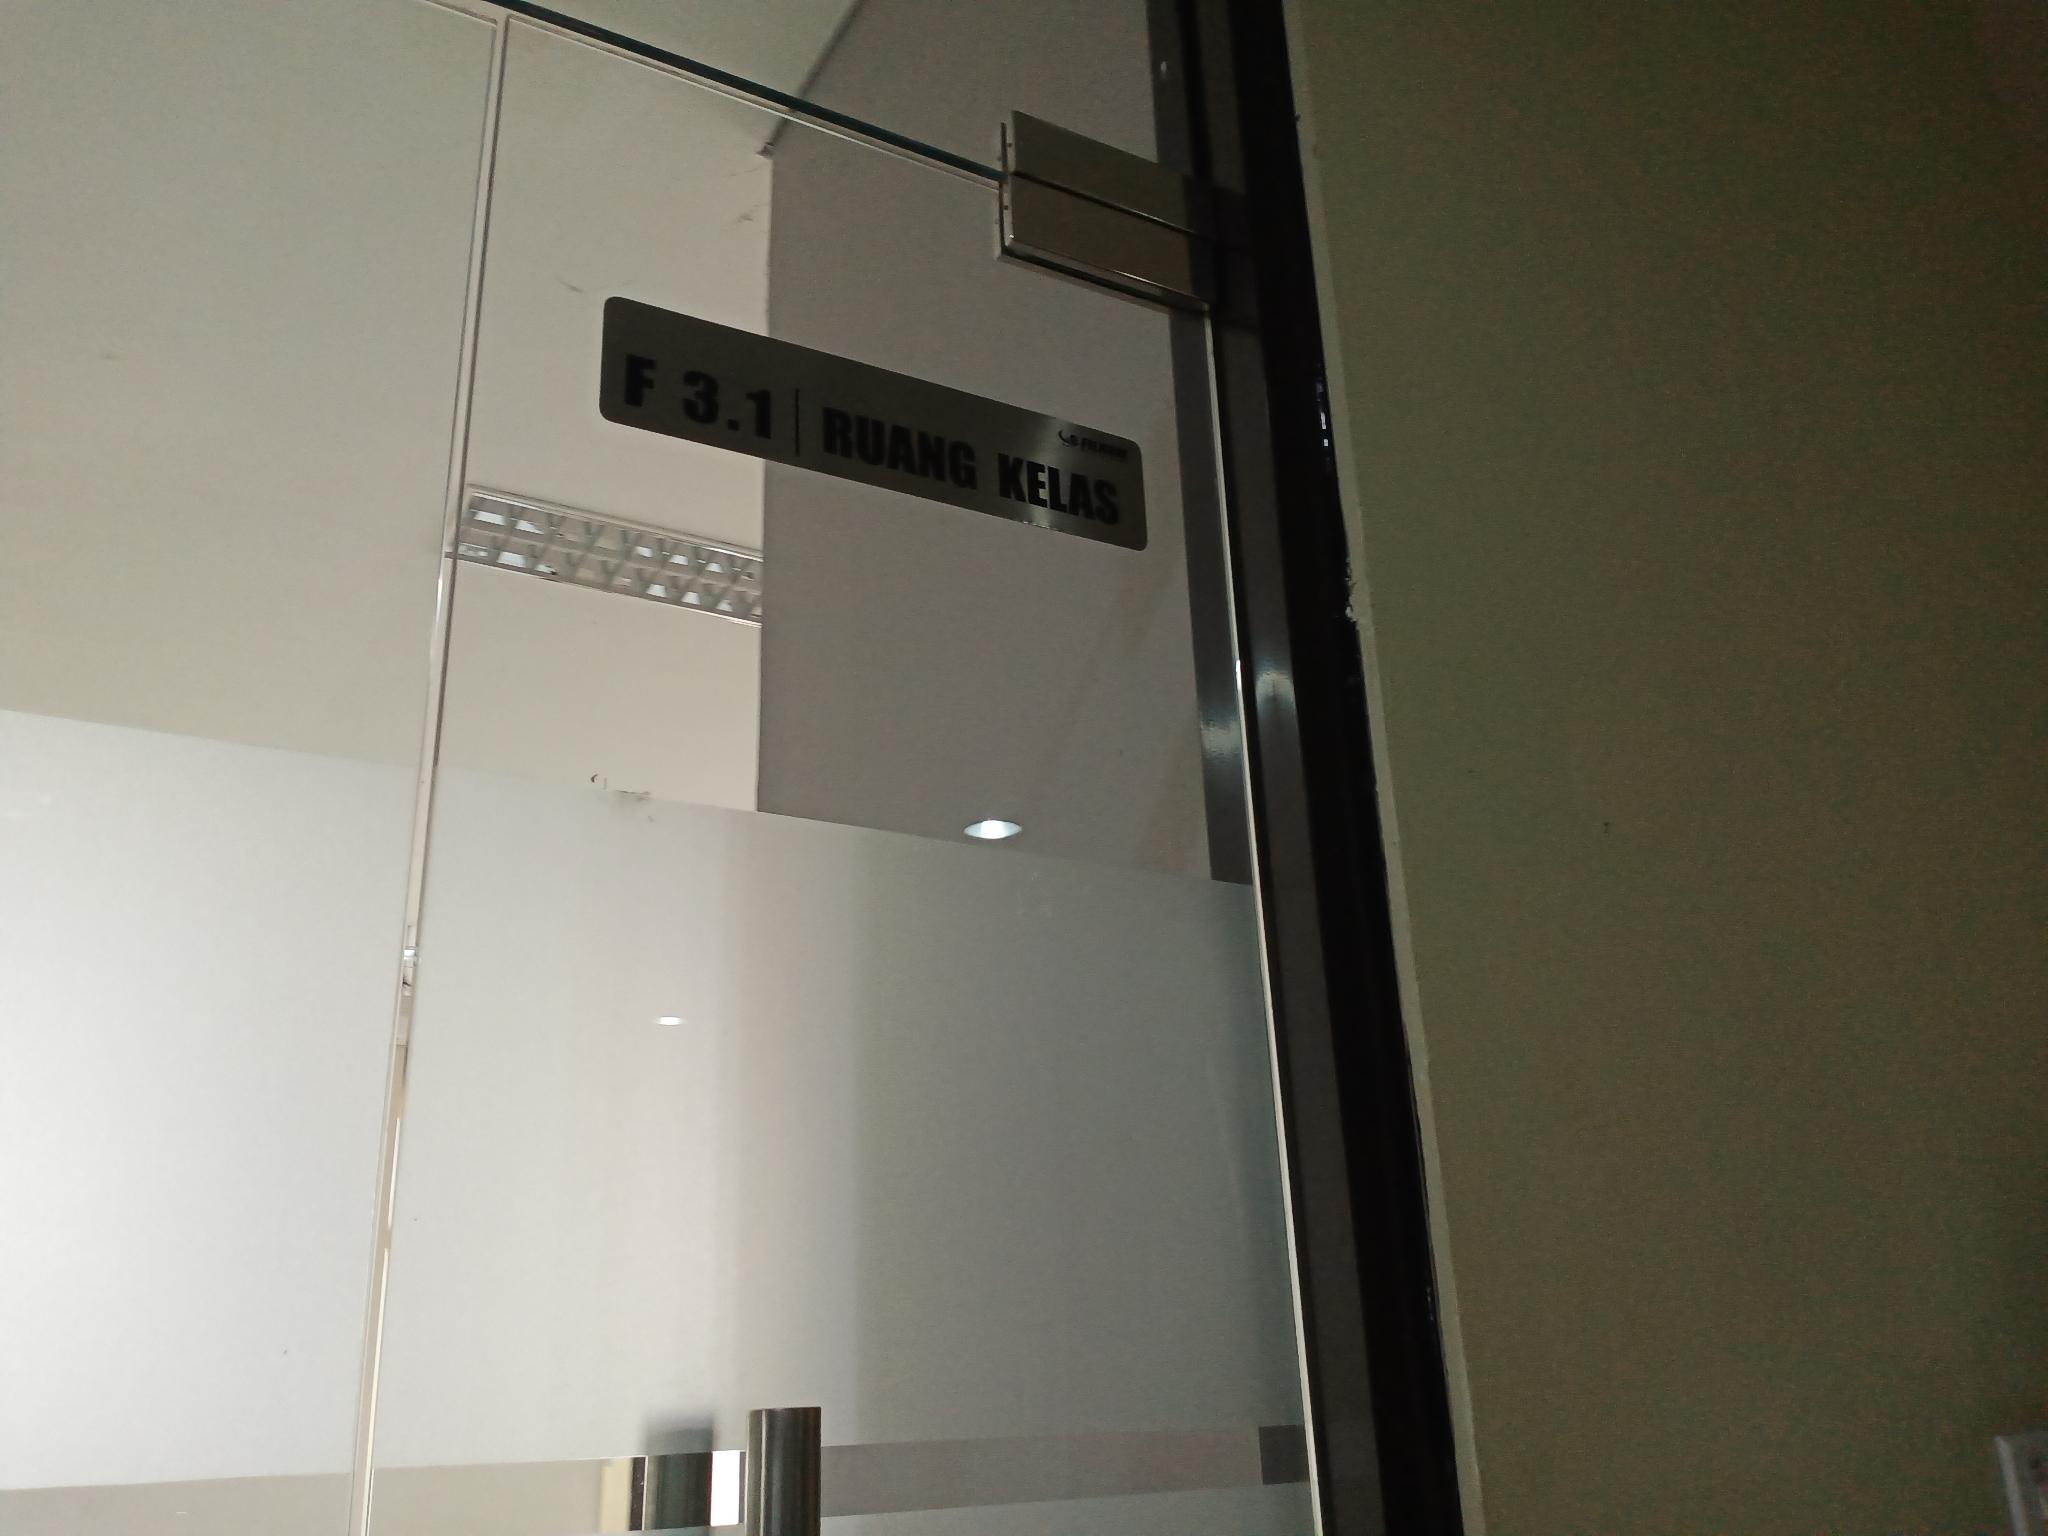plate: (600, 290, 1150, 557)
